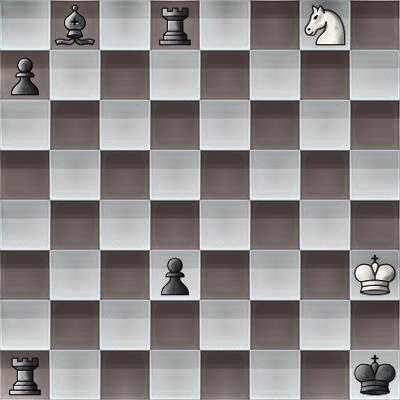black-bishop: (50, 0, 100, 50)
black-king: (350, 350, 400, 400)
black-pawn: (0, 50, 50, 100), (150, 250, 200, 300)
black-rook: (150, 0, 200, 50), (0, 350, 50, 400)
white-king: (350, 250, 400, 300)
white-knight: (300, 0, 350, 50)
